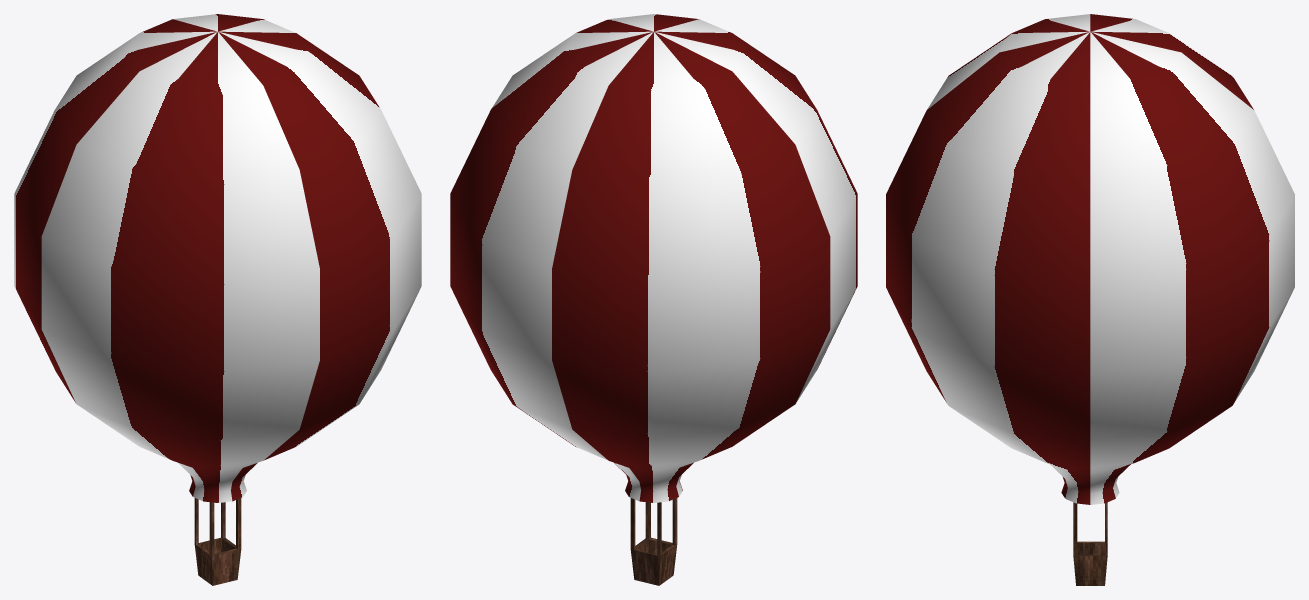
File: Airballoon.fbx
3 renders of one model, left to right at view 1: azimuth 30°, elevation 25°; view 2: azimuth 150°, elevation 25°; view 3: azimuth 270°, elevation 25°, orthographic.
Parts seen in each view (by area): view 1: AirBalloon; view 2: AirBalloon; view 3: AirBalloon.
Boxes of the visible parts, x1,y1,x2,y2 form: AirBalloon: (14,14,421,585); AirBalloon: (450,14,857,585); AirBalloon: (886,14,1294,585).
Bounding box in the file's own units: 1248 × 1846 × 1248.
